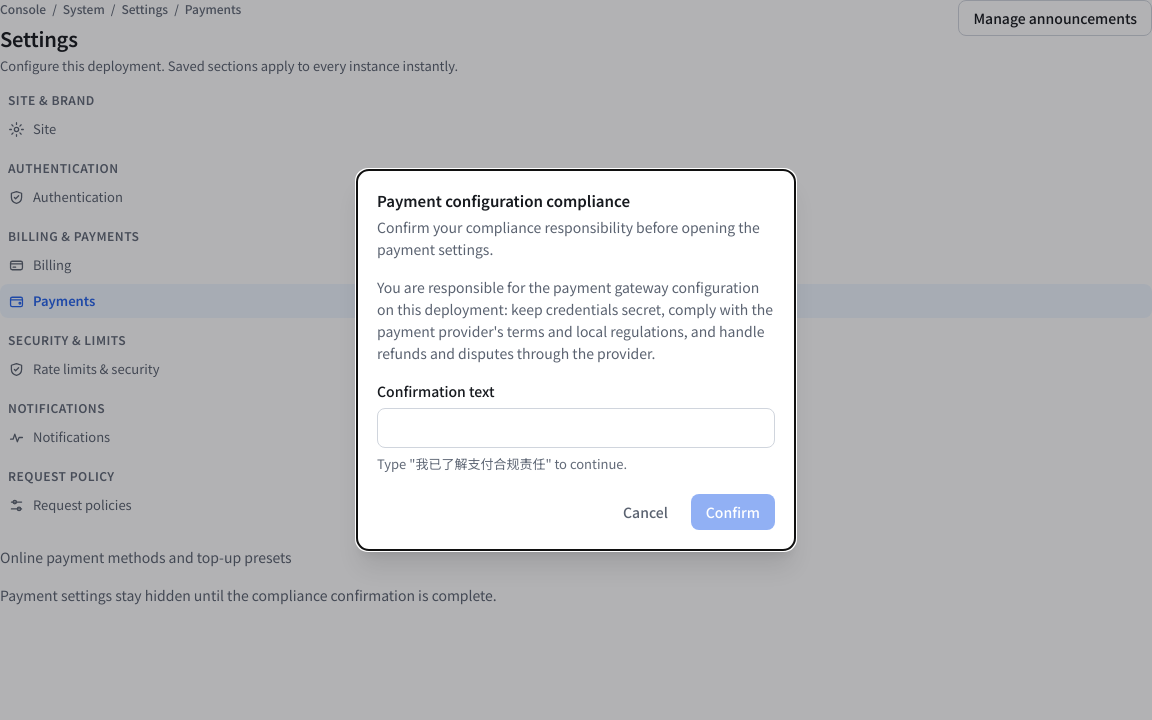
Test: SettingsShell contract › blocks the payment tab until the exact compliance text is entered
Expected: the heading "Payment configuration compliance" is shown, [377,190,630,211]
Expected: the button "Confirm" is disabled, [691,494,775,530]
Step 1. Type "not the phrase" into the field labelled "Confirmation text" → [576, 428], box [377,408,775,448]
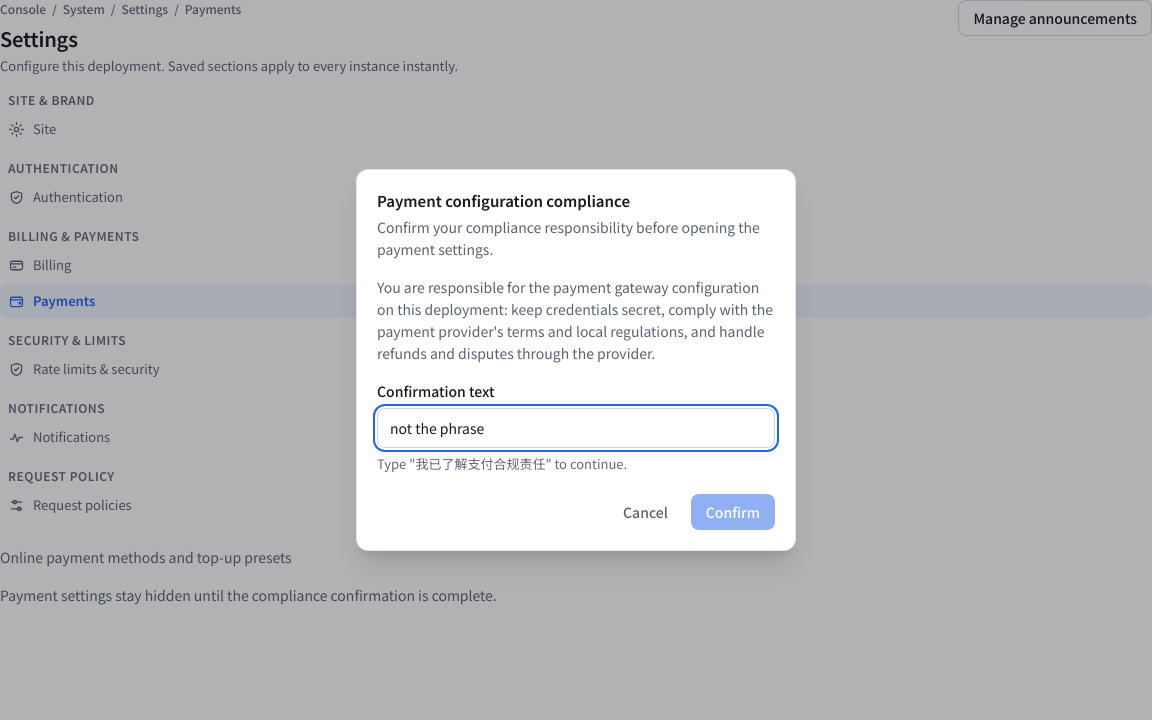
Expected: the button "Confirm" is disabled, [691,494,775,530]
Step 2. Replace the text in the field labelled "Confirmation text" with "我已了解支付合规责任" → [576, 428], box [377,408,775,448]
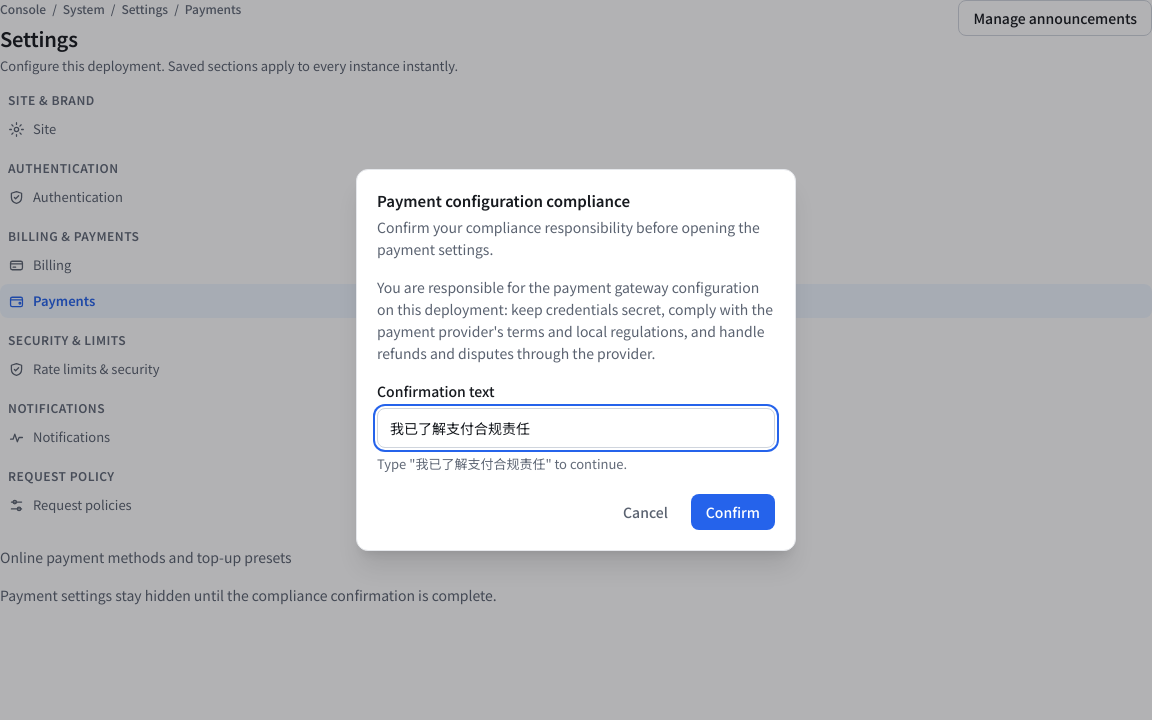
Result: the button "Confirm" is enabled
Step 3. Click the button "Confirm" → [733, 512], box [691,494,775,530]
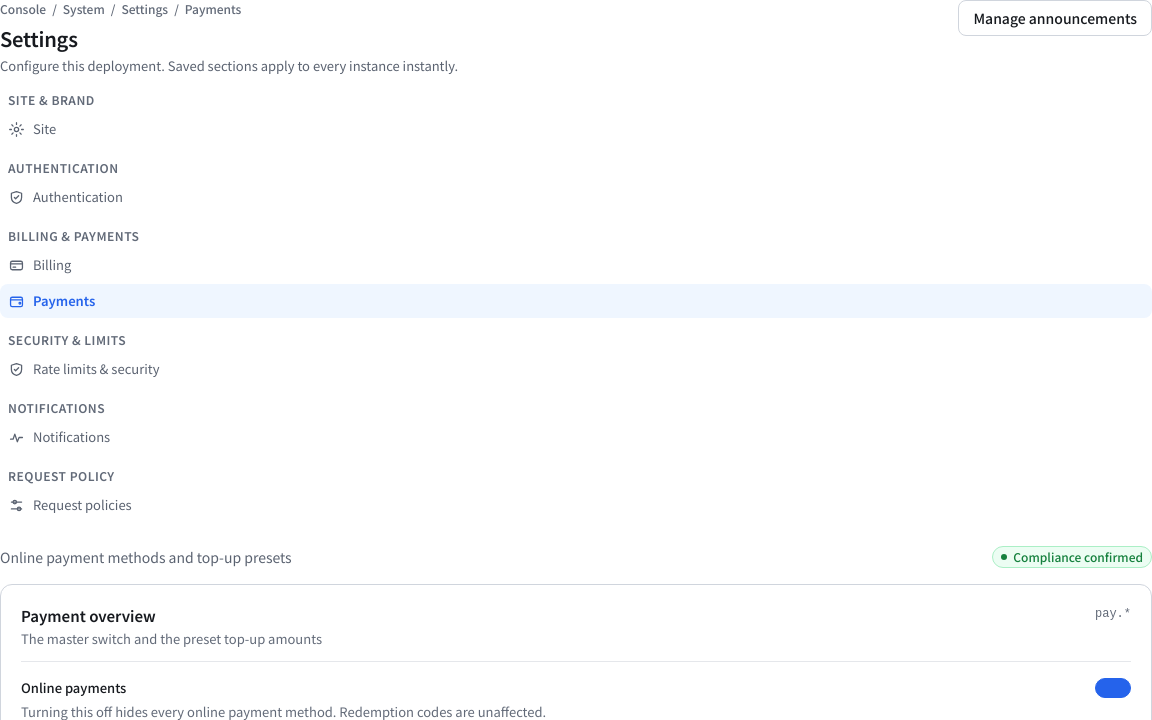
Result: the dialog is gone
Result: the text "Compliance confirmed" is shown at [1013,548,1143,566]
